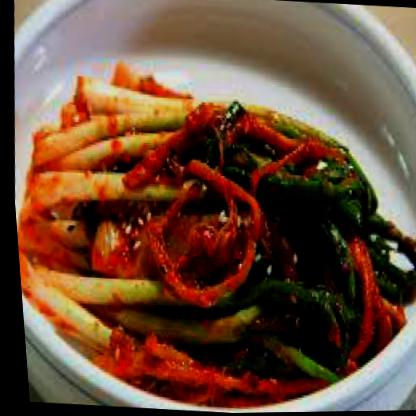green onion Kimchi: (4, 64, 415, 416)
